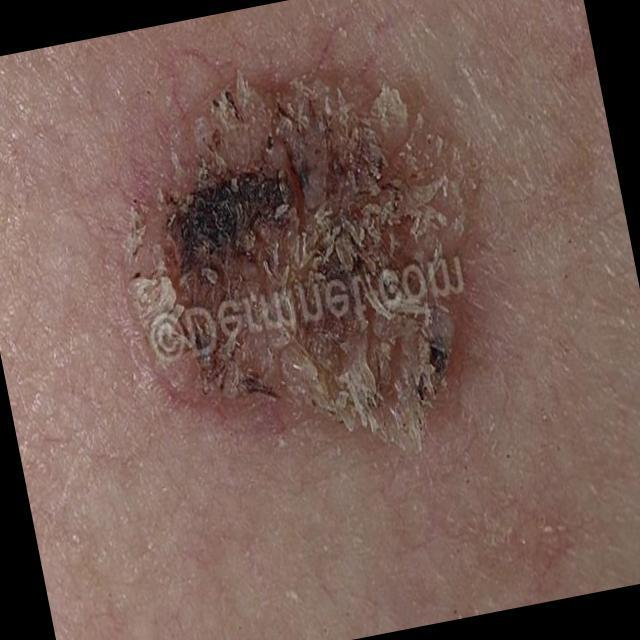Eczema: (120, 78, 473, 451)
